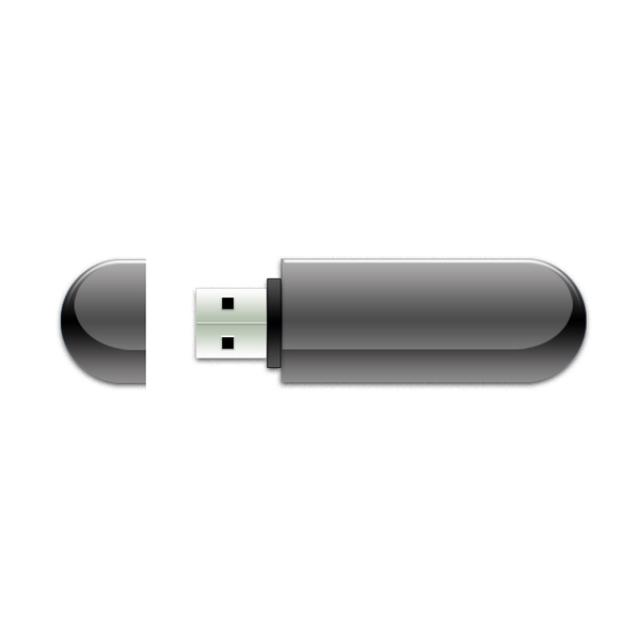USB-Flash-Drive: (57, 241, 588, 414)
